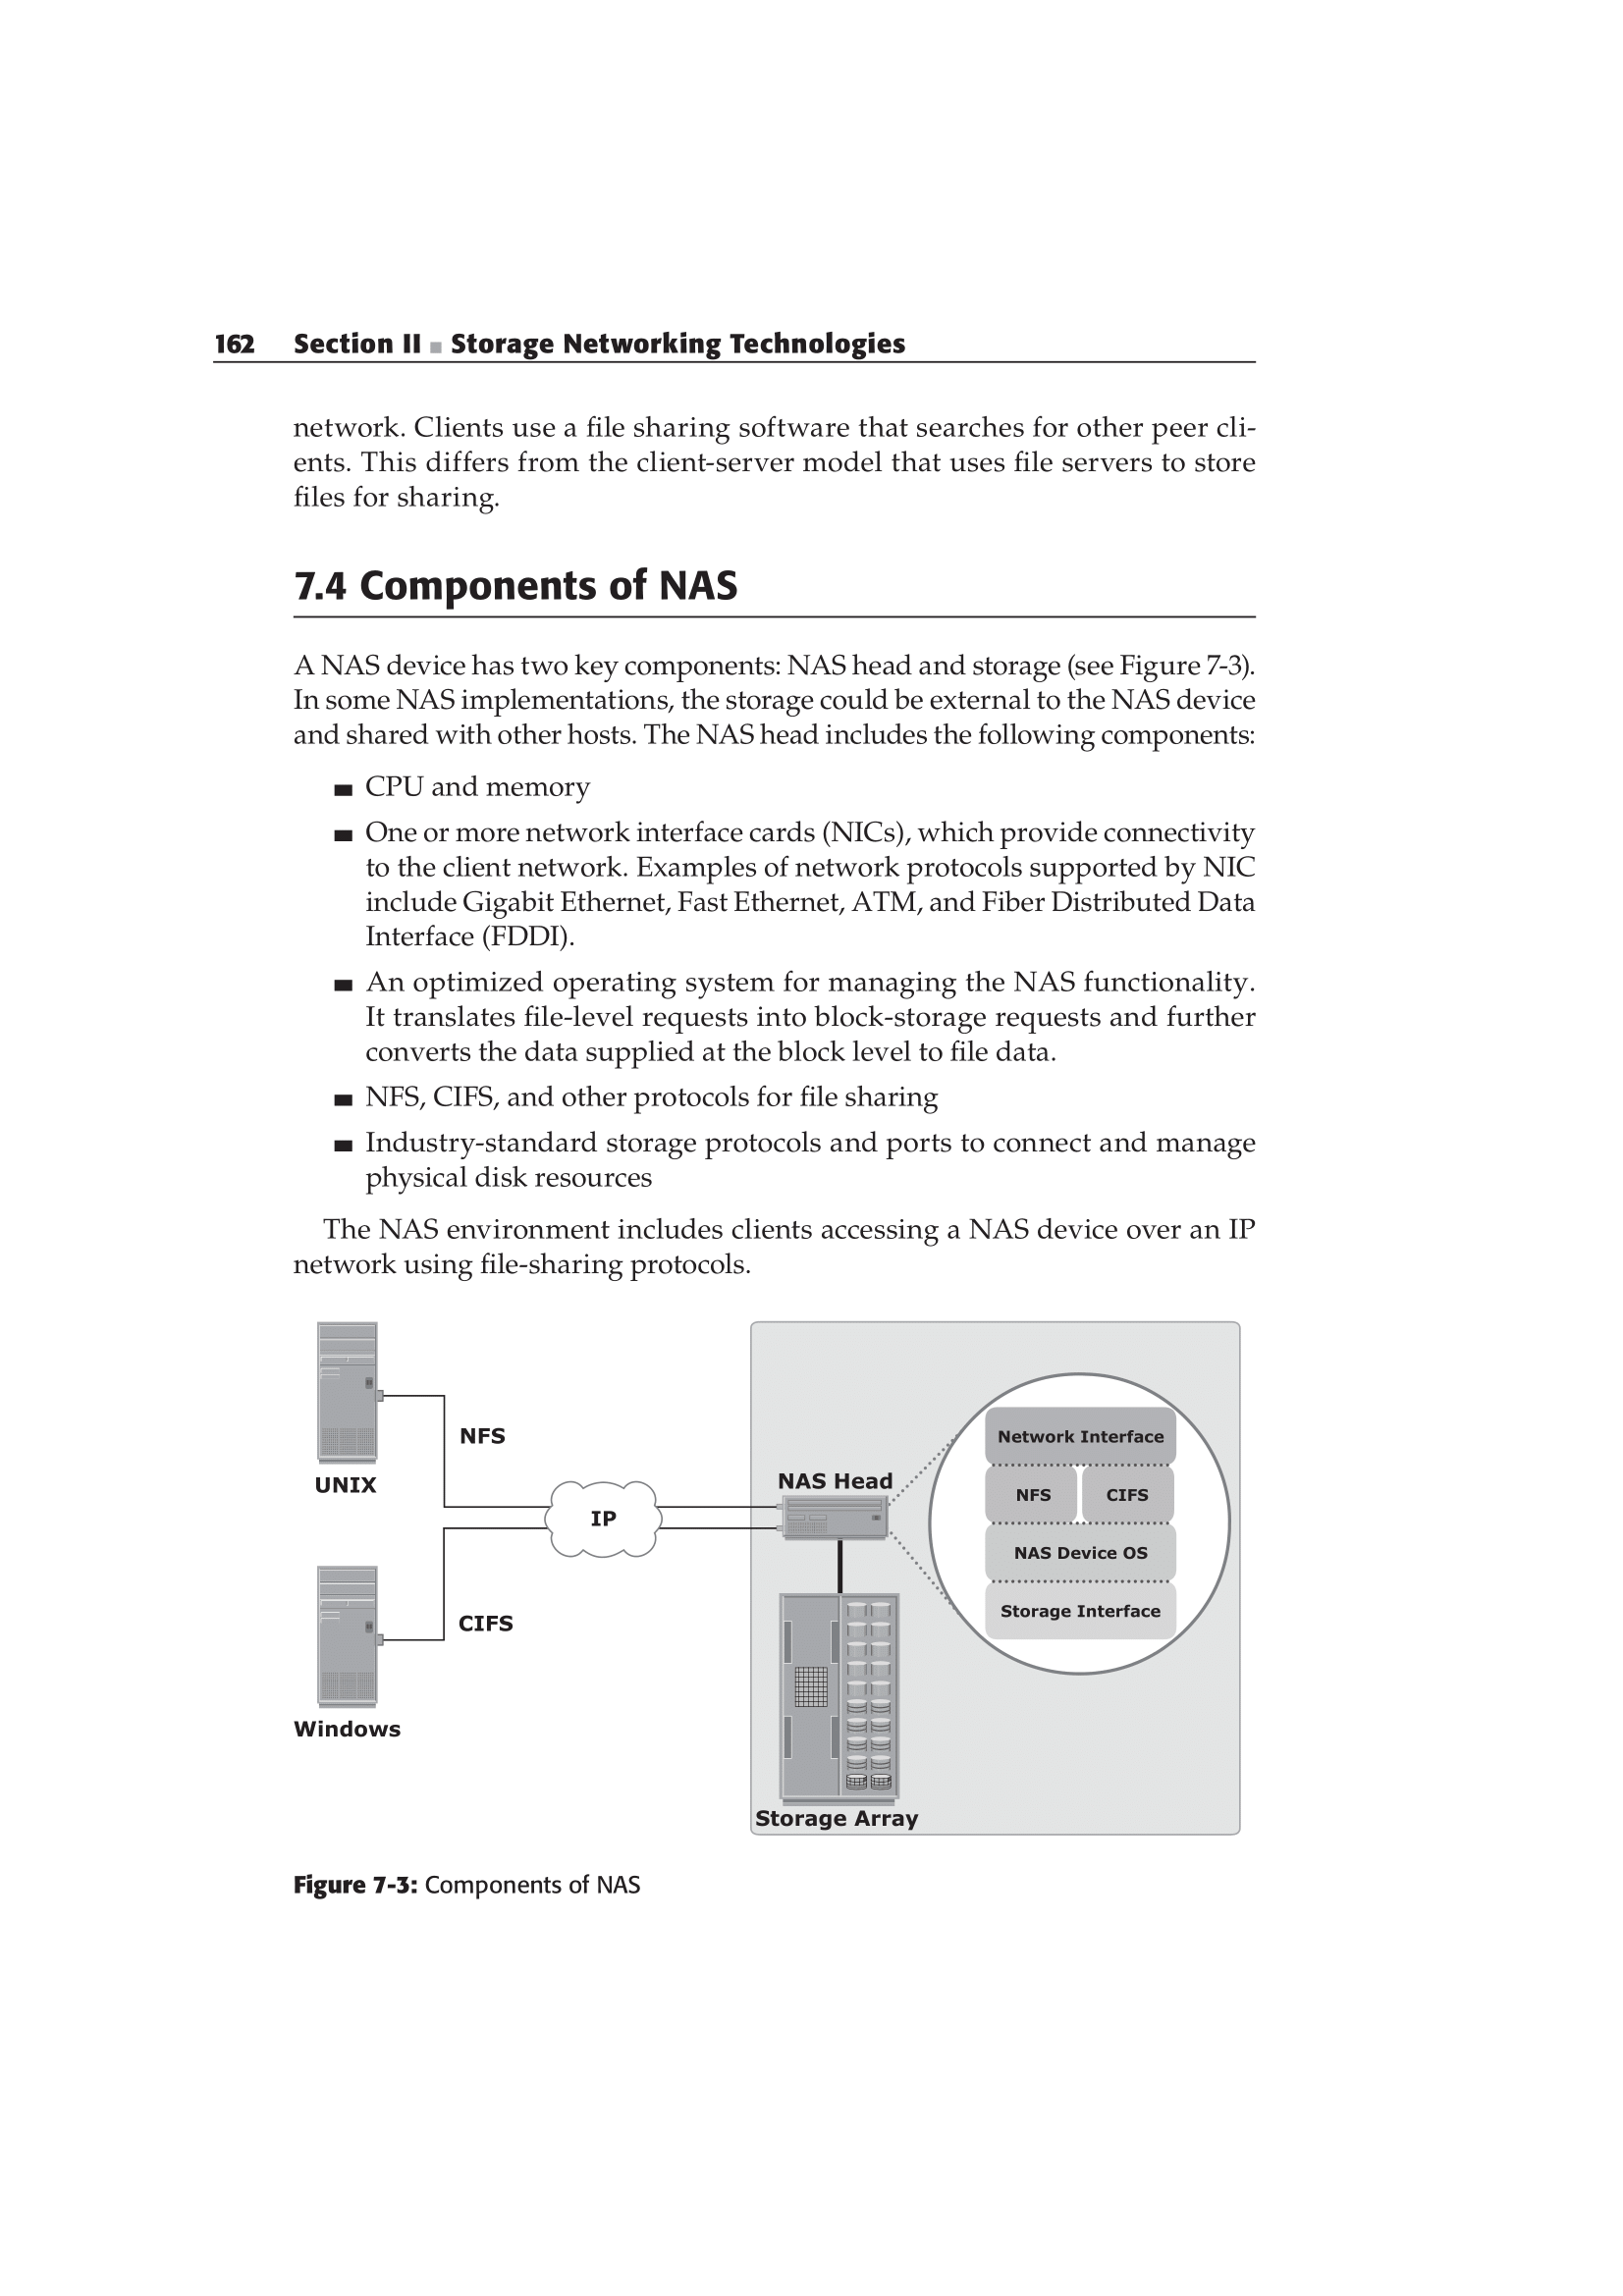Image: (97, 1299, 1479, 1848)
Paragraph: (151, 402, 1421, 532), (235, 822, 1379, 960), (200, 632, 1449, 758), (206, 960, 1303, 1073), (163, 1211, 1416, 1278), (130, 1127, 1370, 1194), (148, 305, 1082, 372), (193, 549, 1040, 611), (181, 758, 884, 809), (206, 1081, 1047, 1115), (227, 1869, 801, 1903)
